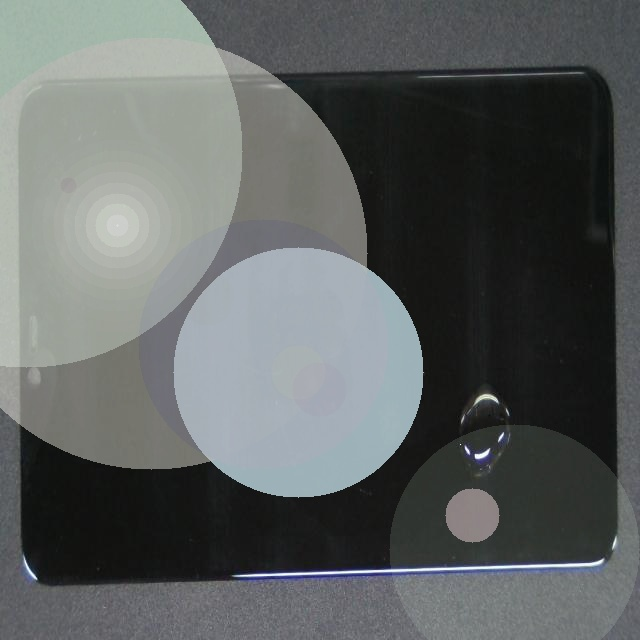oil: (262, 197, 640, 594)
